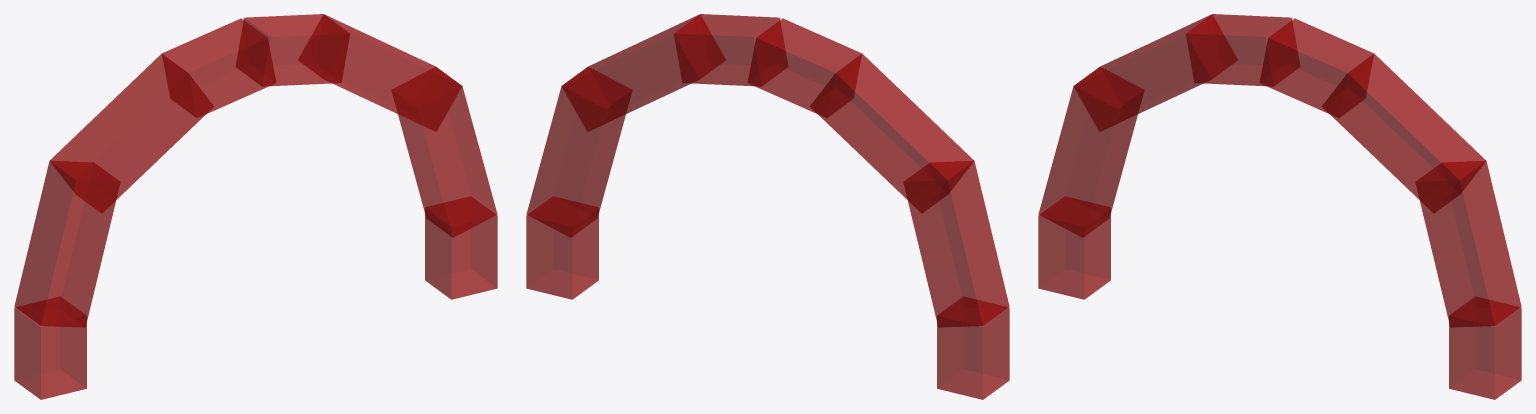
The model's file is SM_Prop_Gantry_Round_01_Collision.fbx.
3 views of the same model, side by side, from view 1: azimuth 30°, elevation 25°; view 2: azimuth 150°, elevation 25°; view 3: azimuth 330°, elevation 25° (orthographic).
Parts seen in each view (by area): view 1: SM_Prop_Gantry_Round_01_Collision; view 2: SM_Prop_Gantry_Round_01_Collision; view 3: SM_Prop_Gantry_Round_01_Collision.
Part boxes in pixels (left/top/right/bottom): SM_Prop_Gantry_Round_01_Collision: left=14, top=14, right=497, bottom=399; SM_Prop_Gantry_Round_01_Collision: left=526, top=14, right=1009, bottom=399; SM_Prop_Gantry_Round_01_Collision: left=1038, top=14, right=1521, bottom=399.
Bounding box in the file's own units: 1241 × 797 × 125.
